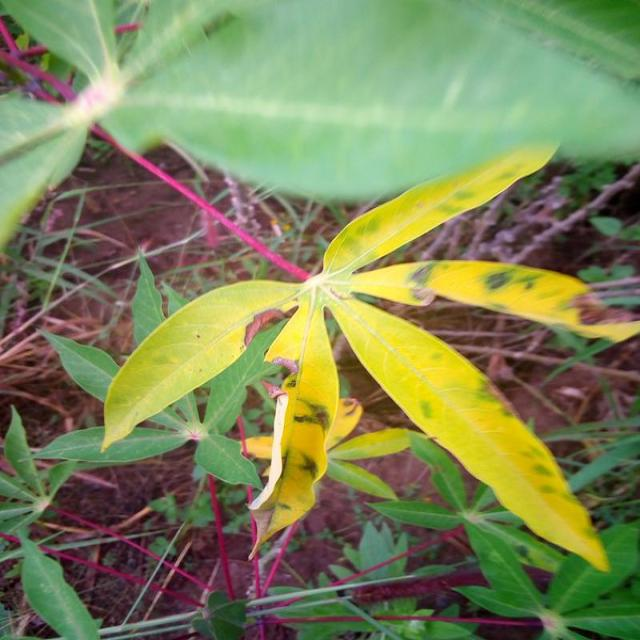cassava leaf: (99, 140, 638, 574), (324, 288, 610, 574)
